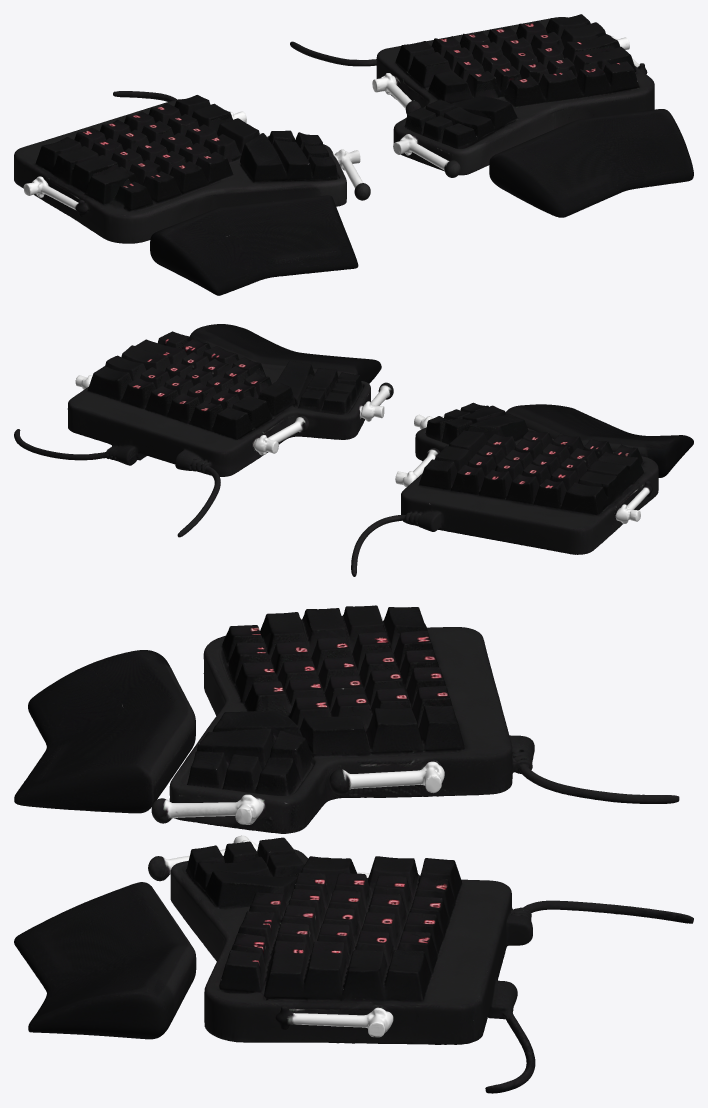
File: ErgoDox_EZ_keyb.glb
3 views of the same model, one above another, from view 1: azimuth 30°, elevation 25°; view 2: azimuth 150°, elevation 25°; view 3: azimuth 270°, elevation 25° (orthographic). The views are drawn at different scales.
Bounding box in the file's own units: 1.9 × 0.1848 × 1.28.
1 material, 1 textured.
